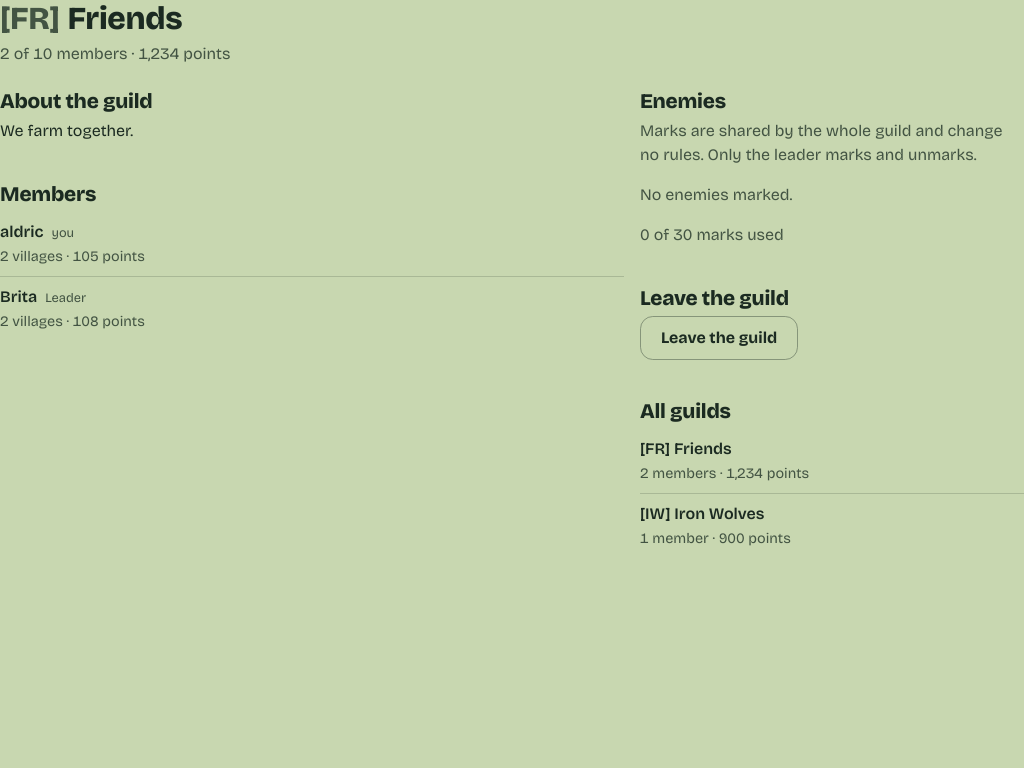
Test case: GuildPage › asks before leaving
Step 1. Click the button "Leave the guild" → click(719, 338), box [640,316,798,360]
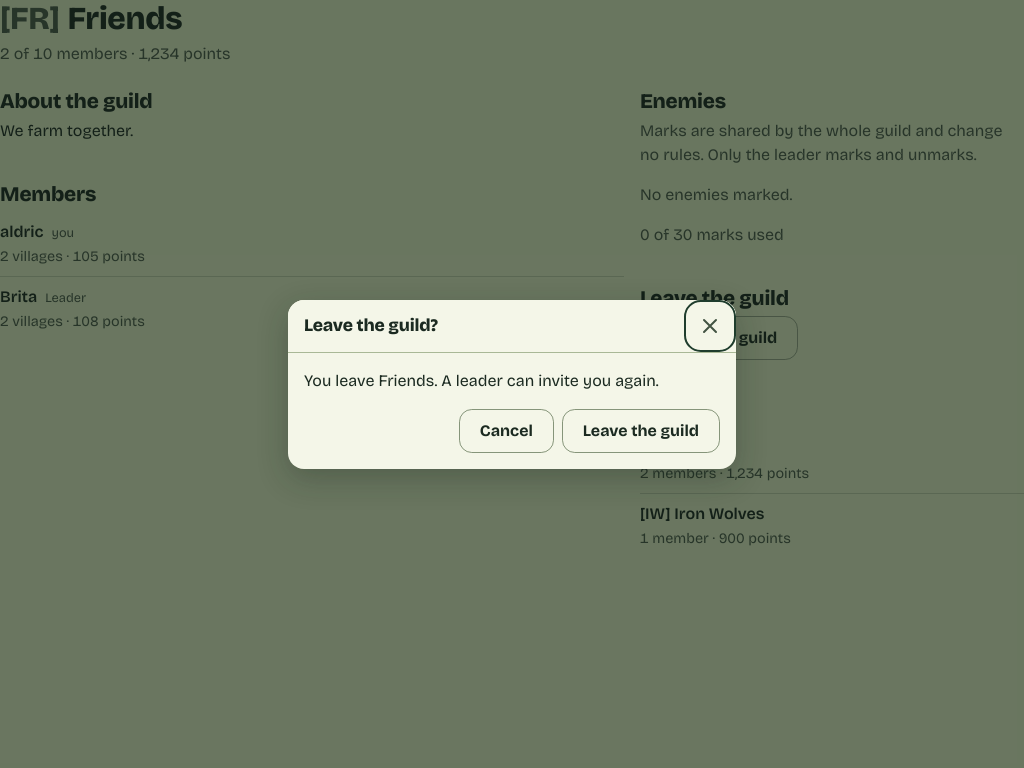
Result: the heading "Leave the guild?" is shown at [304,315,438,336]
